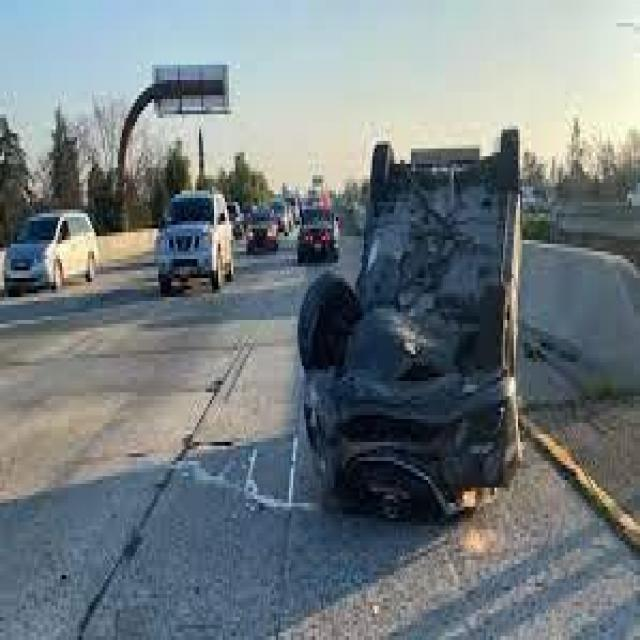accident: (294, 118, 532, 518)
